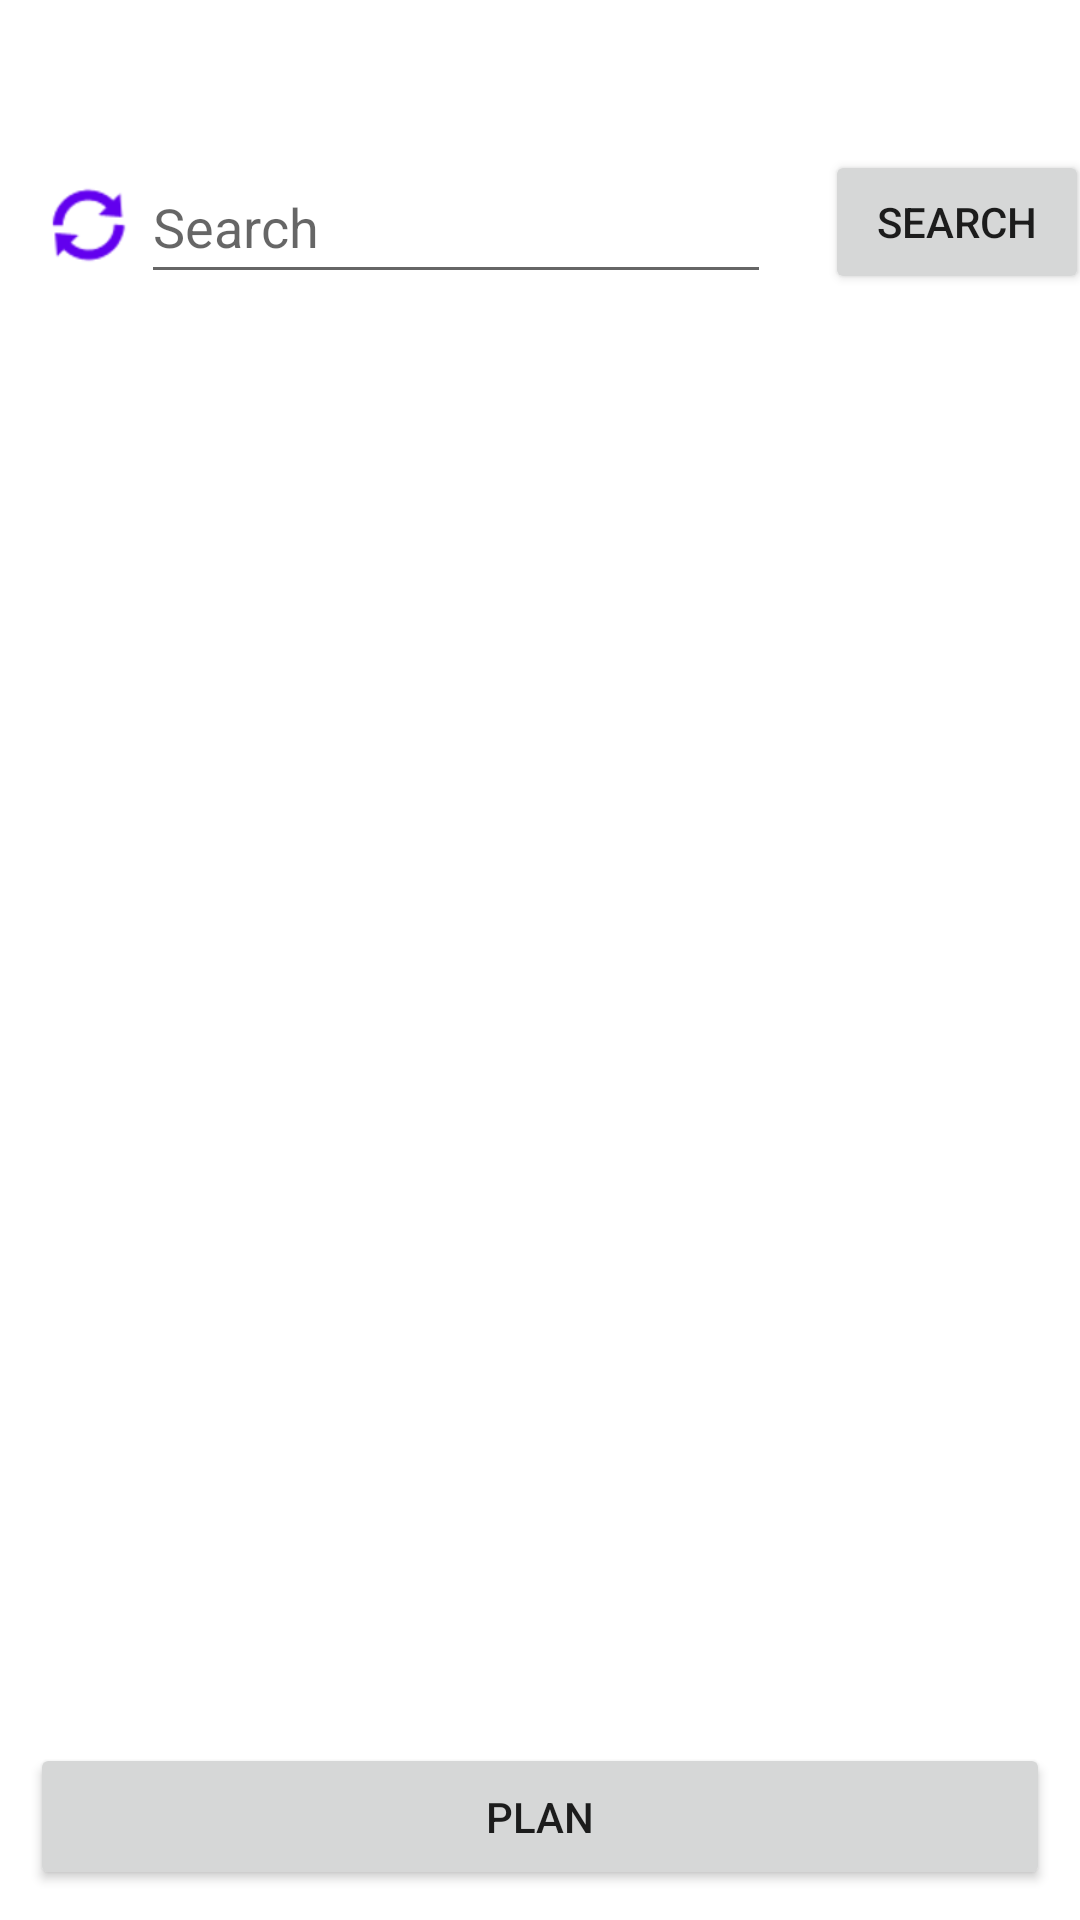

Screen size 1080 x 1920. Icon name, then its box in pixels as (x1, y1, x2, y2):
popup sync: (52, 189, 126, 261)
